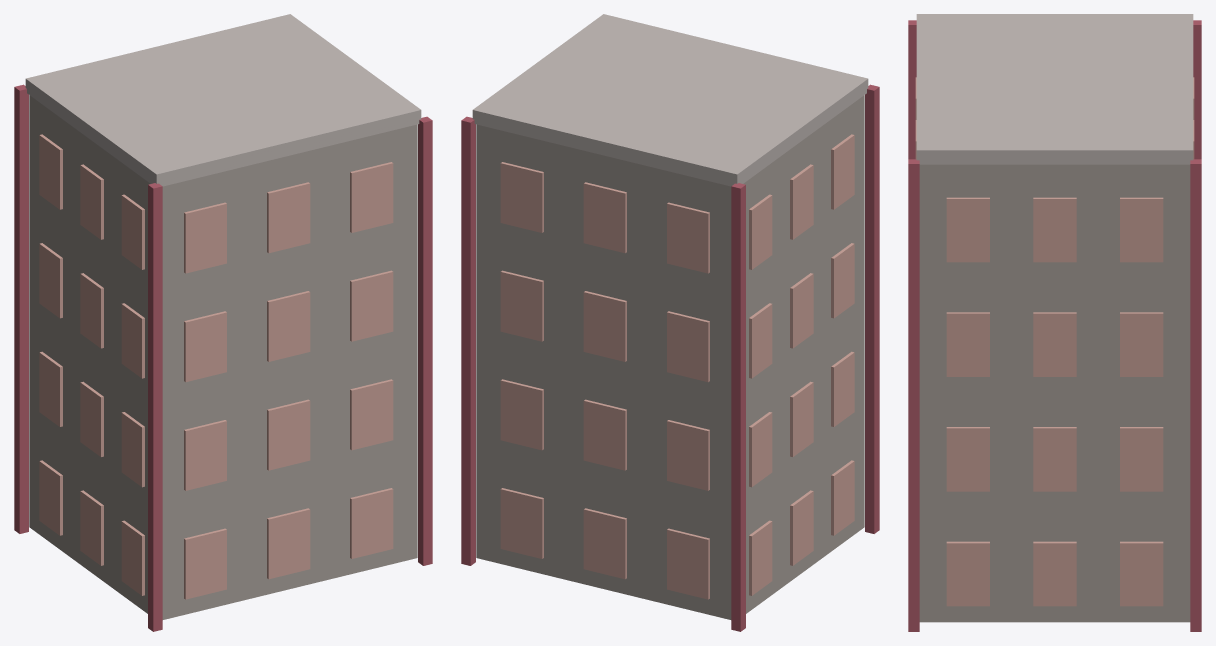
The model's file is commercial_b.glb.
3 renders of one model, left to right at view 1: azimuth 30°, elevation 25°; view 2: azimuth 150°, elevation 25°; view 3: azimuth 270°, elevation 25°, orthographic. The views are drawn at different scales.
Size of the model in its own units: 7.53 by 11.67 by 6.49.
